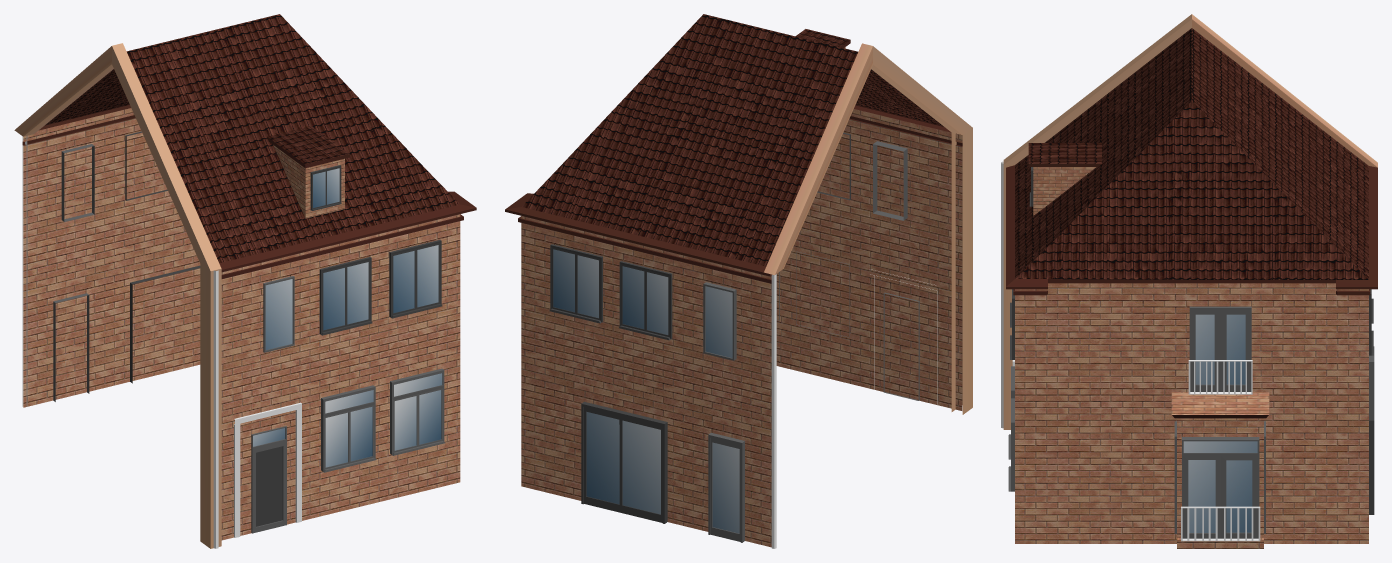
Rendered from It_Tek_2.fbx.
3 views of the same model, side by side, from view 1: azimuth 30°, elevation 25°; view 2: azimuth 150°, elevation 25°; view 3: azimuth 270°, elevation 25° (orthographic). The views are drawn at different scales.
Parts seen in each view (by area): view 1: It_Tek_2; view 2: It_Tek_2; view 3: It_Tek_2.
Part boxes in pixels (box(x1,y1,x2,y2)): It_Tek_2: box(14, 14, 476, 548); It_Tek_2: box(505, 14, 972, 548); It_Tek_2: box(1001, 14, 1377, 548).
Size of the model in its own units: 7.73 by 10.42 by 8.66.
